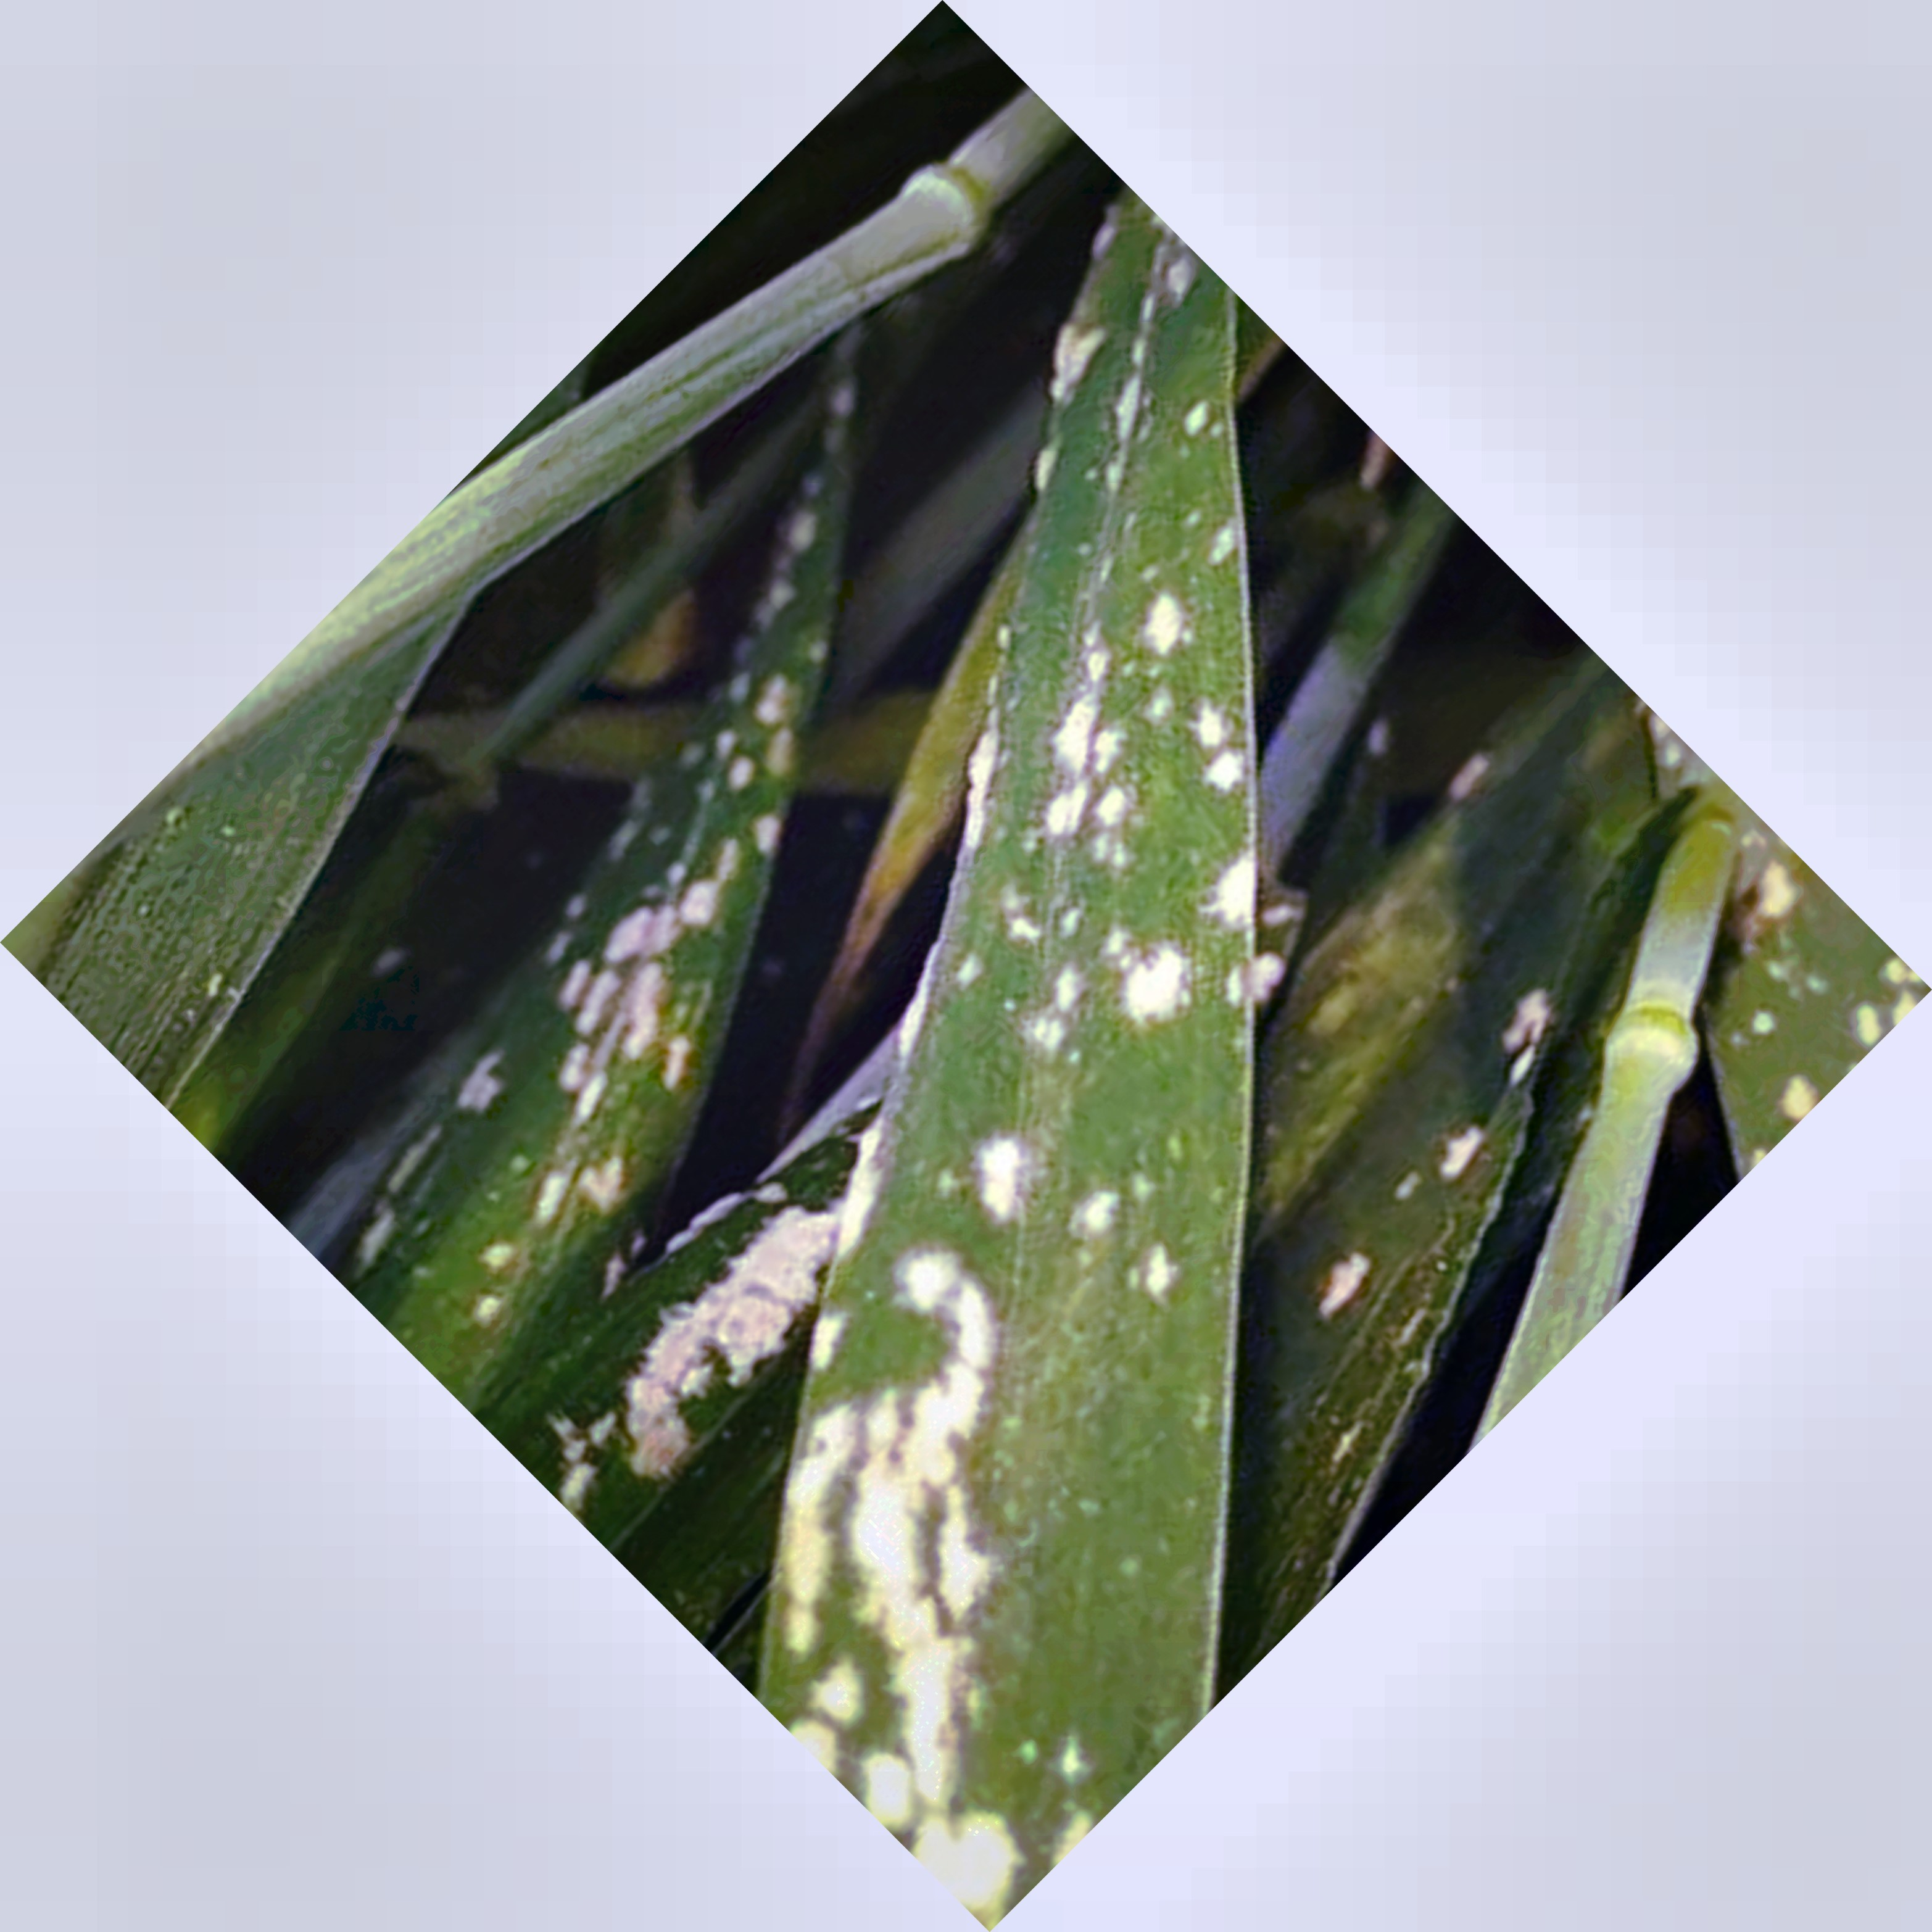Powdery Mildew: (359, 584, 1391, 1583)
